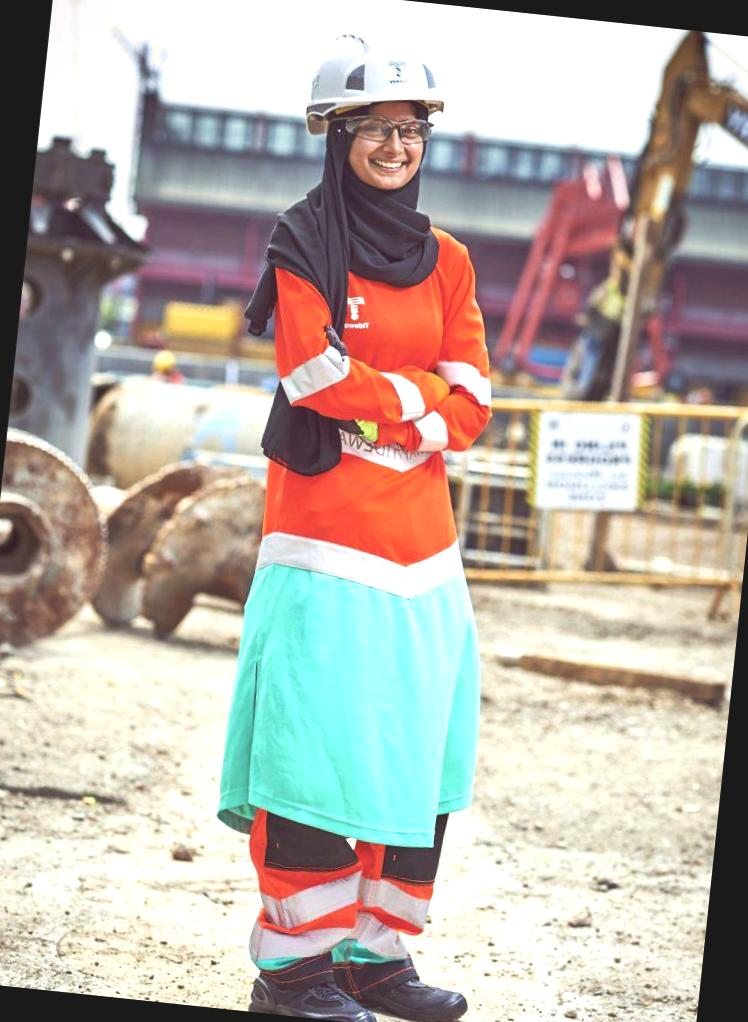helmet: (292, 10, 477, 140)
no_vest: (238, 188, 502, 549)
person: (177, 7, 570, 1022)
